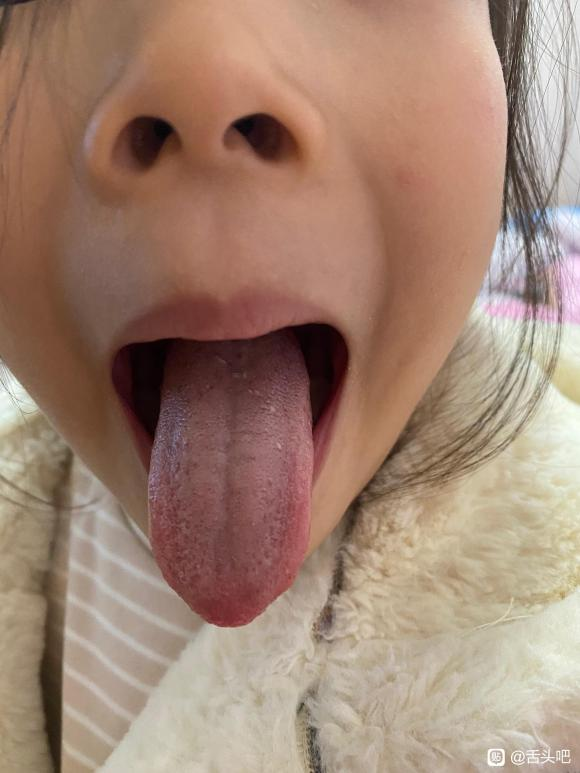baitaishe: (146, 327, 313, 626)
hongshe: (146, 328, 313, 627)
shoushe: (146, 328, 313, 627)
